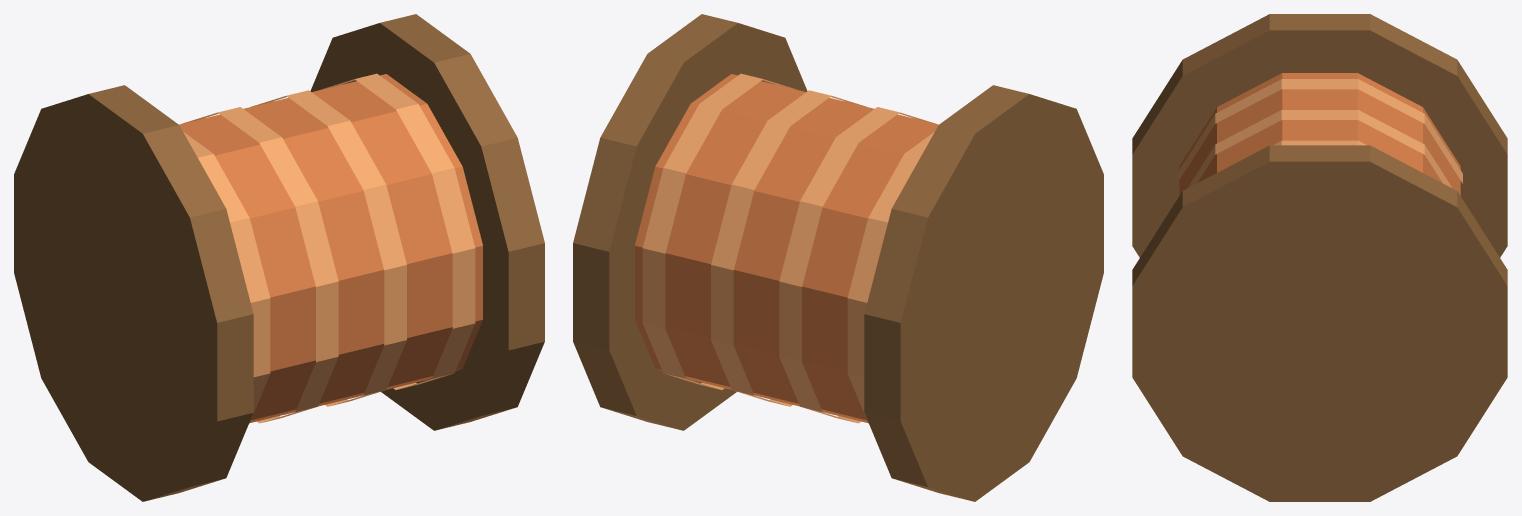
File: item_copper_wire.glb
3 renders of one model, left to right at view 1: azimuth 30°, elevation 25°; view 2: azimuth 150°, elevation 25°; view 3: azimuth 270°, elevation 25°, orthographic. The views are drawn at different scales.
Visible parts, largest first — view 1: item_copper_wire; view 2: item_copper_wire; view 3: item_copper_wire.
Part boxes in pixels (x1,y1,x2,y2): item_copper_wire: [14, 14, 544, 501]; item_copper_wire: [573, 14, 1103, 501]; item_copper_wire: [1132, 14, 1507, 501].
Bounding box in the file's own units: 0.72 × 0.7728 × 0.7728.
